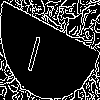I: (25, 25, 45, 73)
